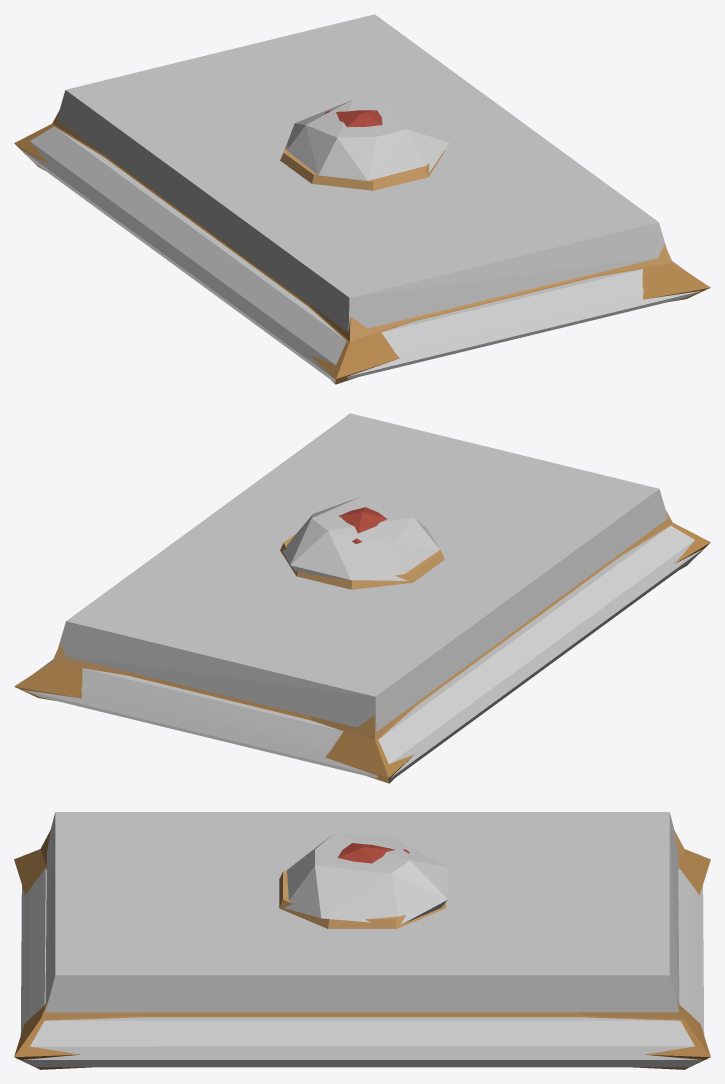
The model's file is SM_Prop_Jewellery_Box_02_Lid_01.fbx.
The picture shows the model from 3 angles, top to bottom: view 1: azimuth 30°, elevation 25°; view 2: azimuth 150°, elevation 25°; view 3: azimuth 270°, elevation 25°; orthographic projection. The views are drawn at different scales.
Parts seen in each view (by area): view 1: SM_Prop_Jewellery_Box_02_Lid_01_ConvexHulls, SM_Prop_Jewellery_Box_02_Lid_01; view 2: SM_Prop_Jewellery_Box_02_Lid_01_ConvexHulls, SM_Prop_Jewellery_Box_02_Lid_01; view 3: SM_Prop_Jewellery_Box_02_Lid_01_ConvexHulls, SM_Prop_Jewellery_Box_02_Lid_01.
Part boxes in pixels (x1=…): SM_Prop_Jewellery_Box_02_Lid_01_ConvexHulls: x1=21, y1=14, x2=701, y2=382; SM_Prop_Jewellery_Box_02_Lid_01: x1=14, y1=110, x2=710, y2=384; SM_Prop_Jewellery_Box_02_Lid_01_ConvexHulls: x1=23, y1=413, x2=703, y2=781; SM_Prop_Jewellery_Box_02_Lid_01: x1=14, y1=507, x2=710, y2=783; SM_Prop_Jewellery_Box_02_Lid_01_ConvexHulls: x1=20, y1=812, x2=704, y2=1067; SM_Prop_Jewellery_Box_02_Lid_01: x1=14, y1=830, x2=710, y2=1069.
Size of the model in its own units: 26.74 by 39.81 by 8.18.
2 materials, 1 textured.
